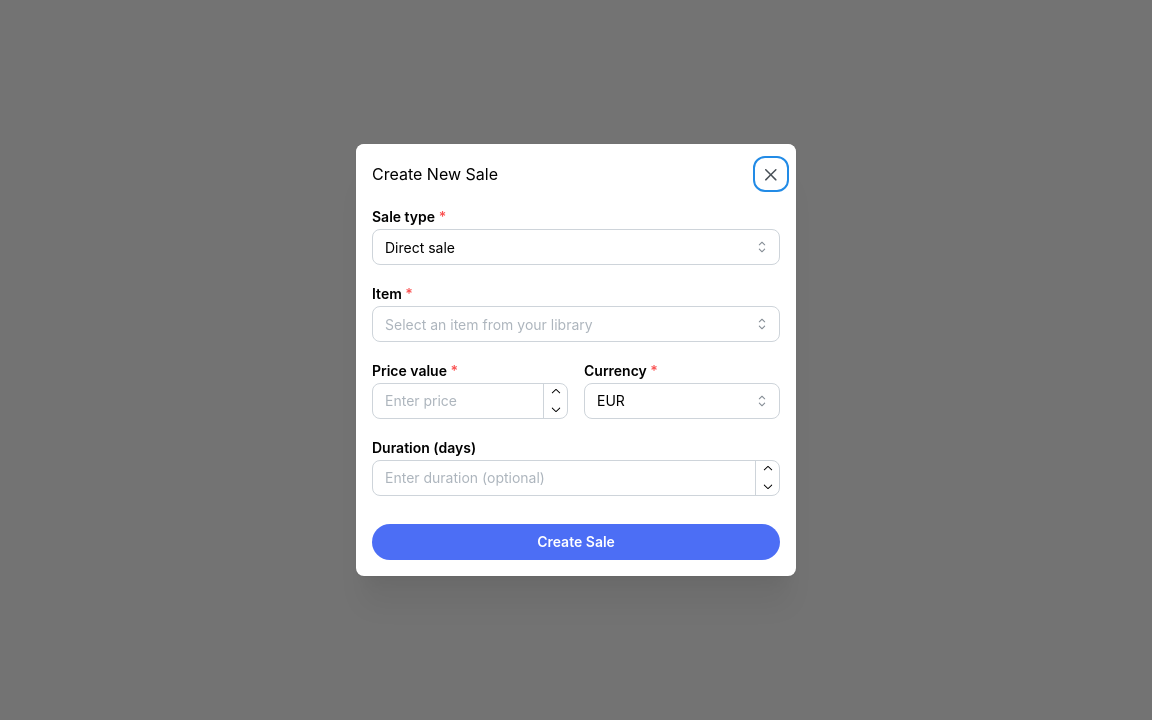
Test: CreateSaleModal › shows validation errors when submitting empty direct sale form
# saleType defaults to "Direct sale" — submit without filling anything
Click the button "Create Sale". click: (576, 542)
box: [372,524,780,560]
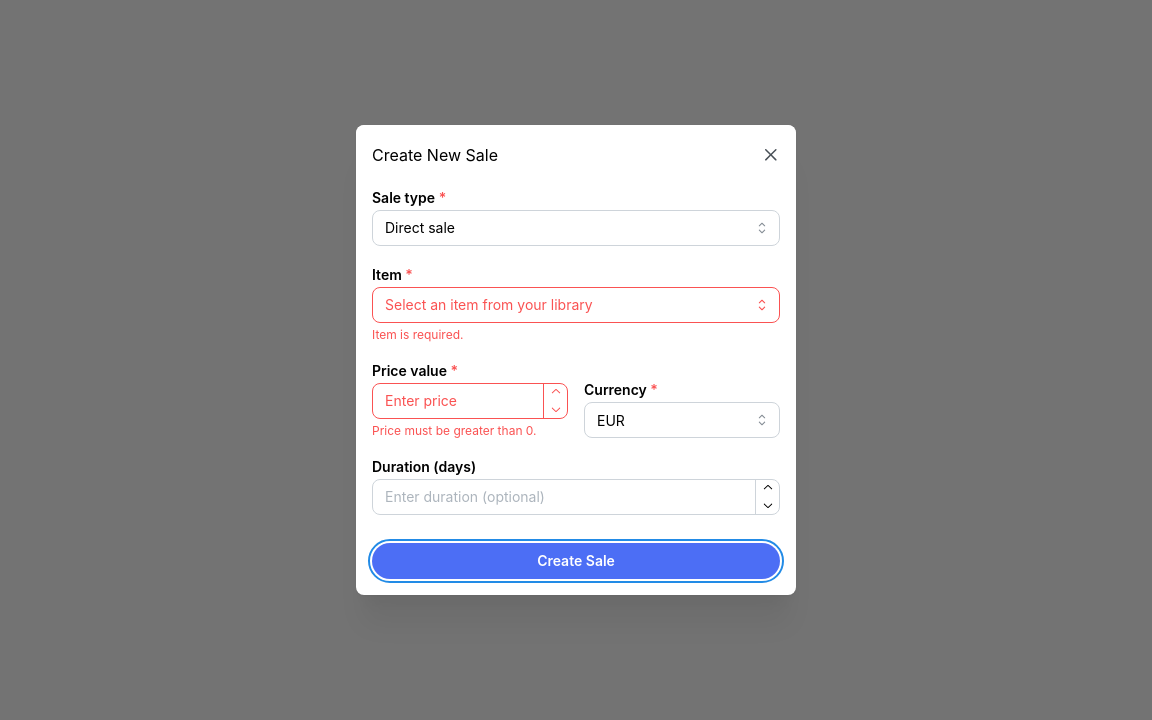
Check: the text "Item is required." is shown, box [372,327,464,342]
Check: the text "Price must be greater than 0." is shown, box [372,423,537,438]
